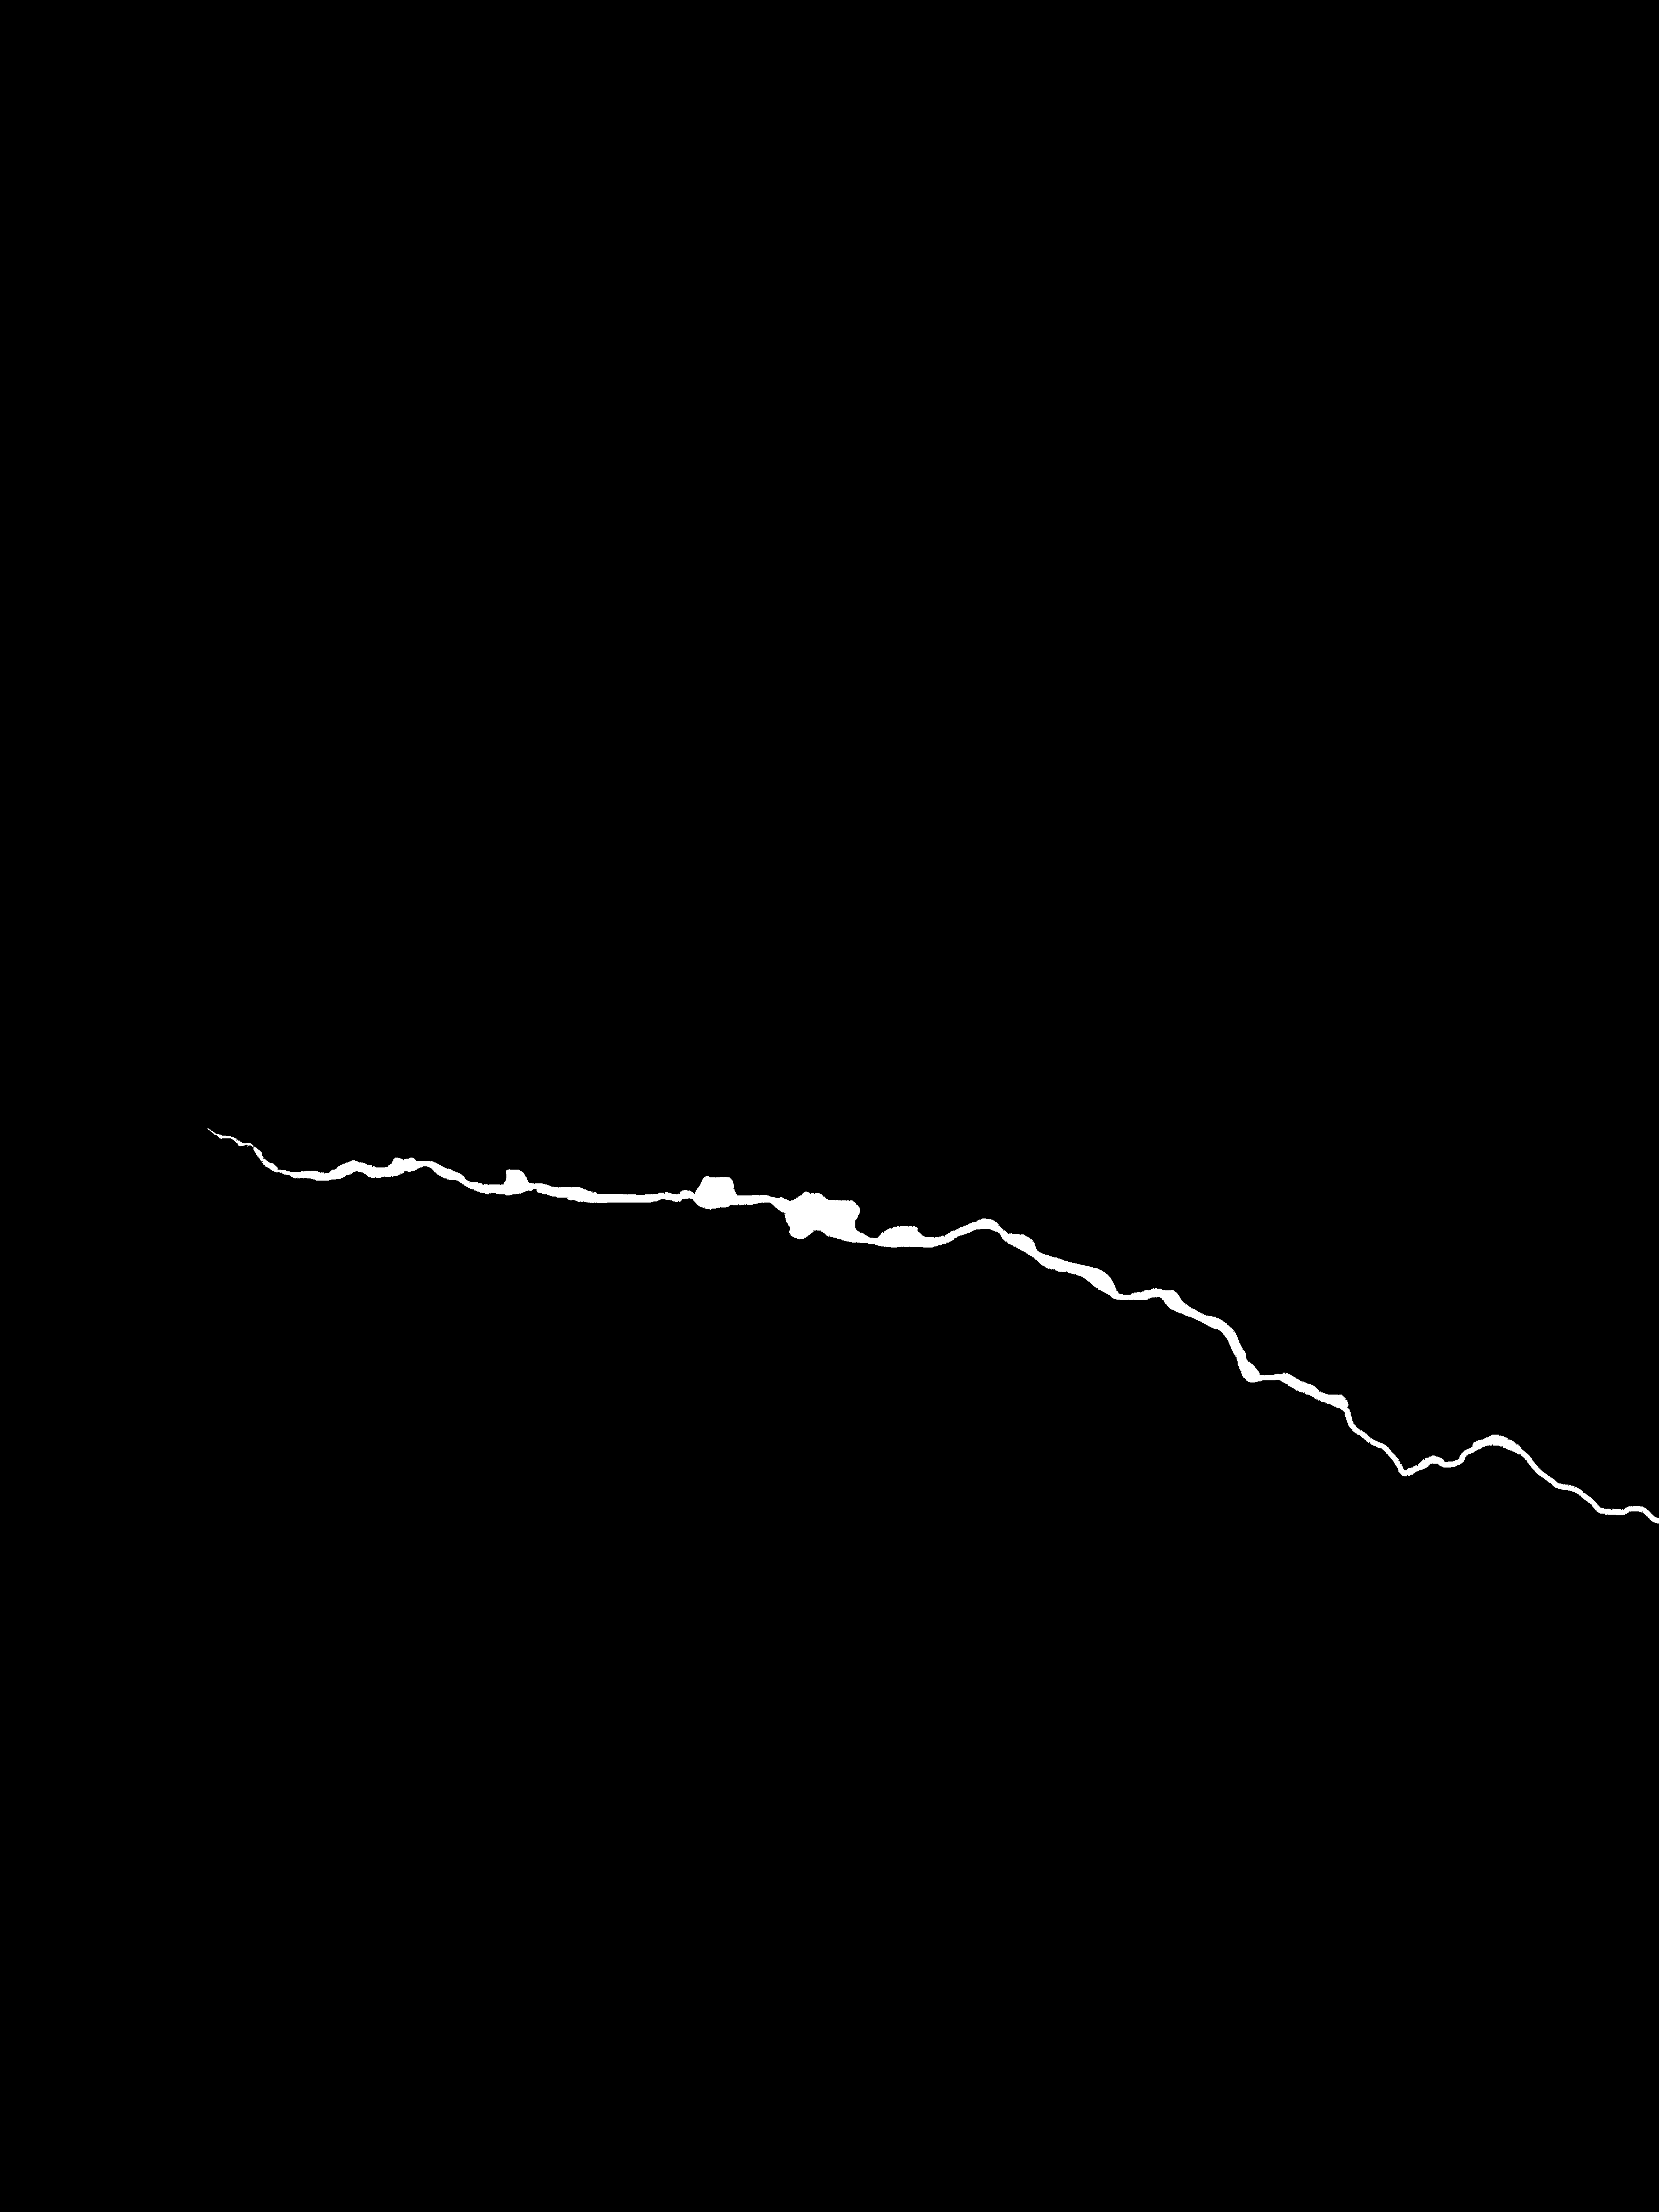Crack: (228, 1103, 1659, 1566)
